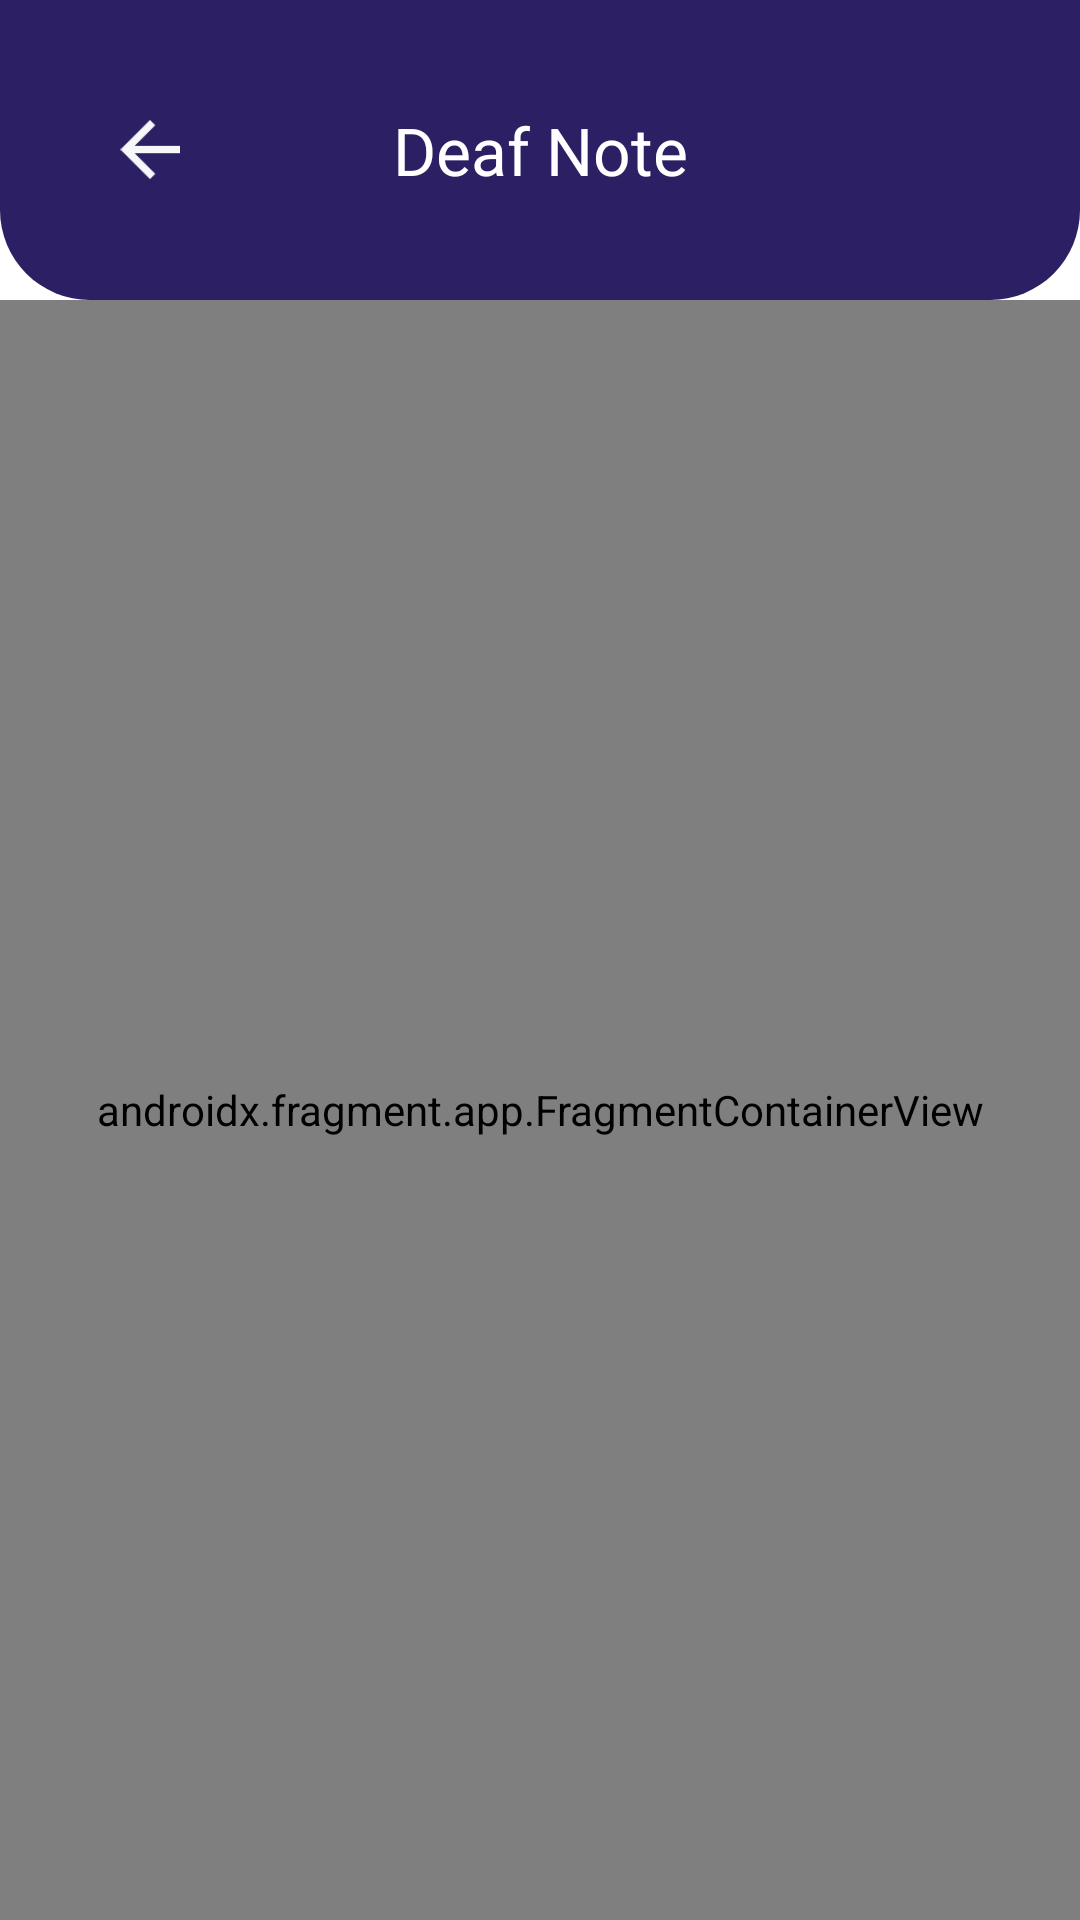

Icons on this 1080×1920 Android screen, each with the point to tap as (x=x, y=y):
back: (x=150, y=149)
